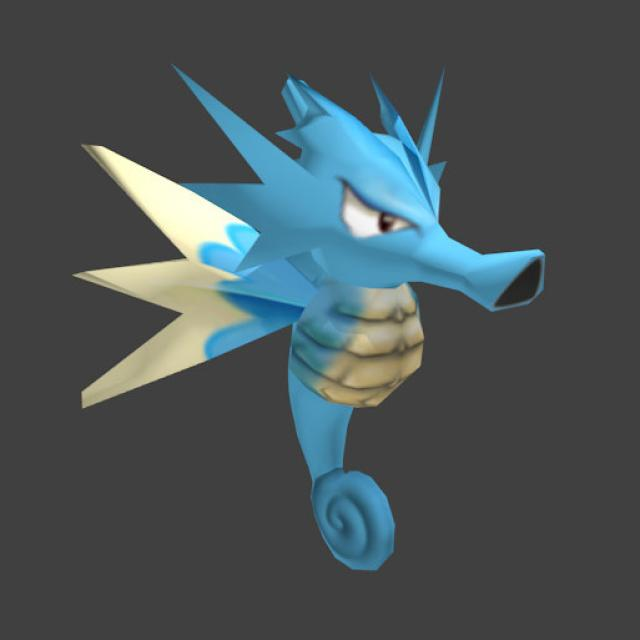Seadra: (200, 68, 550, 588)
